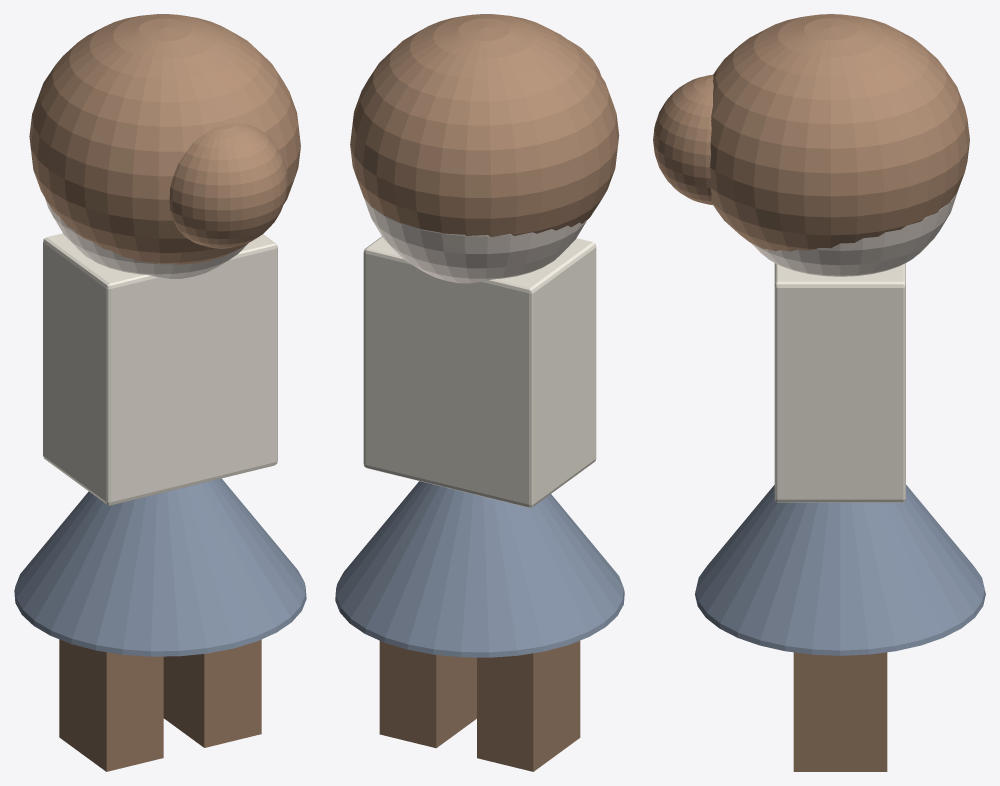
Rendered from craftsman_doll.glb.
The picture shows the model from 3 angles, left to right: view 1: azimuth 30°, elevation 25°; view 2: azimuth 150°, elevation 25°; view 3: azimuth 270°, elevation 25°; orthographic projection.
Visible parts, largest first — view 1: Cube, Sphere.001, Cone, Sphere.002, Cube.001, Cube.002, Sphere; view 2: Cube, Sphere.001, Cone, Cube.001, Cube.002, Sphere; view 3: Sphere.001, Cone, Cube, Cube.002, Sphere.002, Sphere.
Boxes of the visible parts, x1,y1,x2,y2 form: Cube: (43,233,277,505); Sphere.001: (29,14,300,264); Cone: (14,478,306,656); Sphere.002: (169,123,287,248); Cube.001: (59,639,163,771); Cube.002: (163,639,261,747); Sphere: (45,198,248,278); Cube: (363,236,596,507); Sphere.001: (350,14,619,236); Cone: (335,481,624,657); Cube.001: (477,640,580,771); Cube.002: (379,641,476,748); Sphere: (364,198,586,283); Sphere.001: (710,14,969,251); Cone: (695,485,985,655); Cube: (774,263,905,502); Cube.002: (793,652,887,771); Sphere.002: (653,74,713,204); Sphere: (751,192,957,276).
Size of the model in its own units: 0.6214 by 1.67 by 0.7107.
